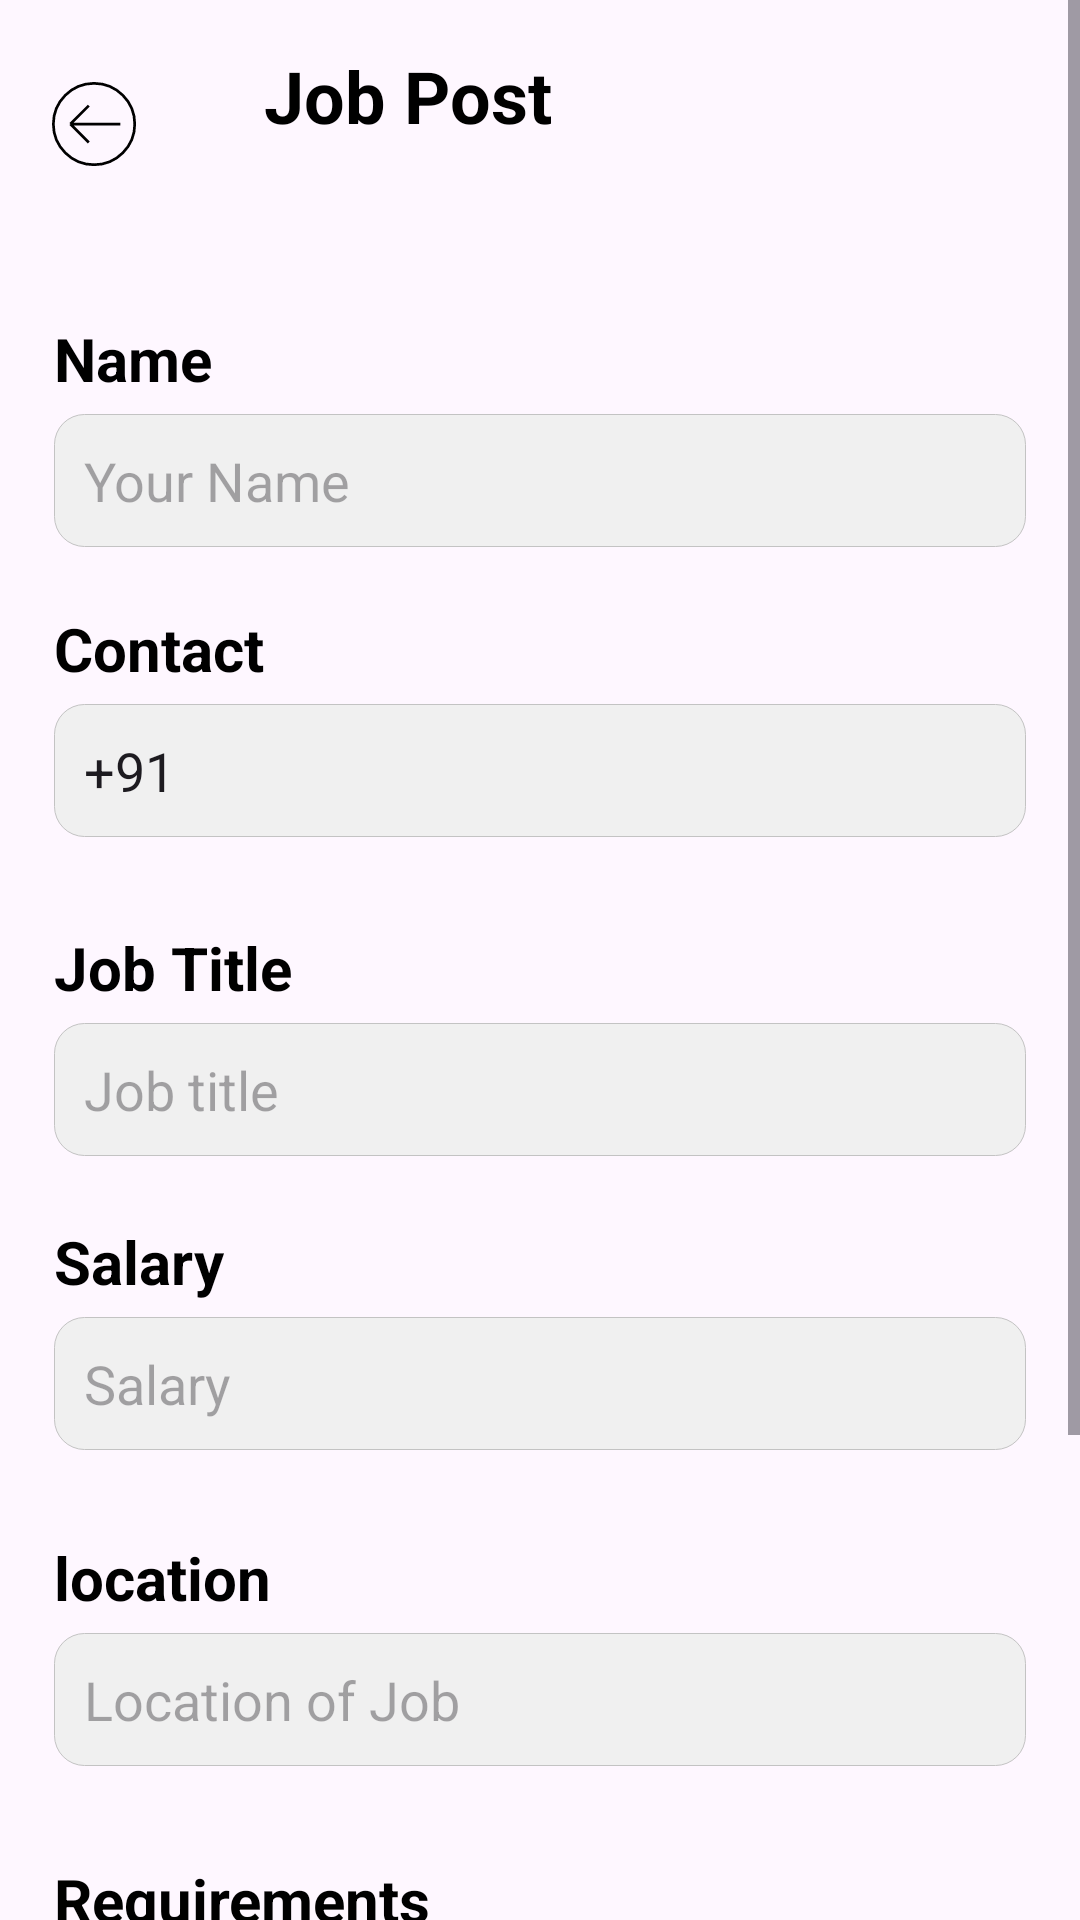

Icon click points for this 1080px×1920px phone screenshot, format point (x, y):
back: point (94, 124)
